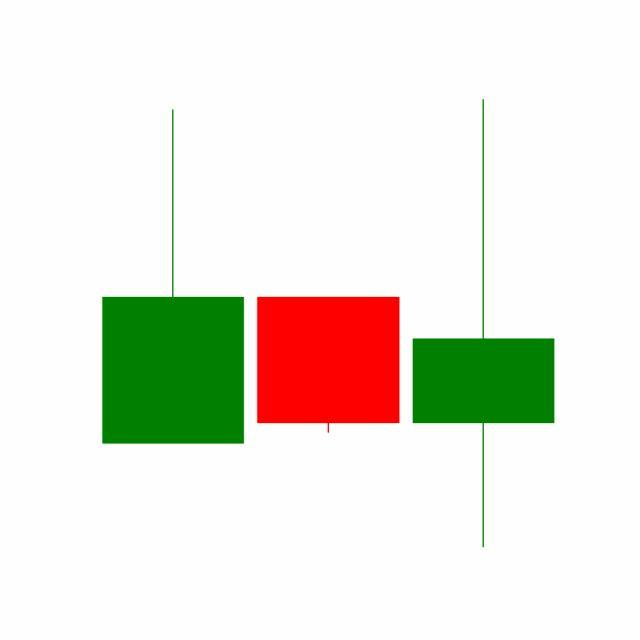Marubozu: (250, 296, 407, 436)
